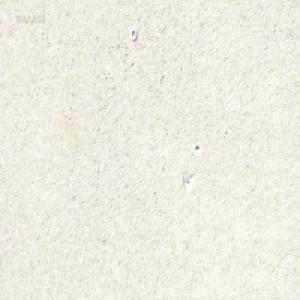Washer: (130, 26, 138, 40)
